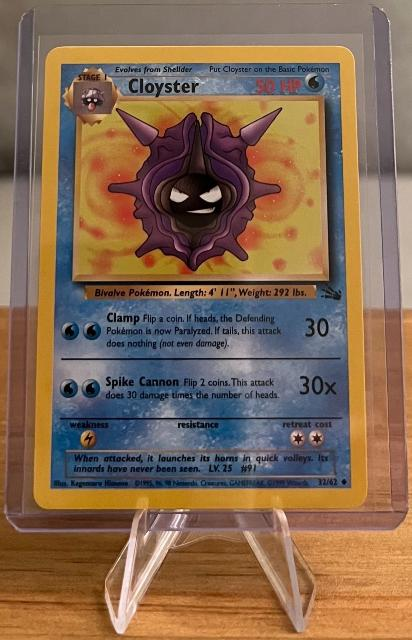Card: (127, 76, 202, 99)
Name: (29, 41, 371, 513)
